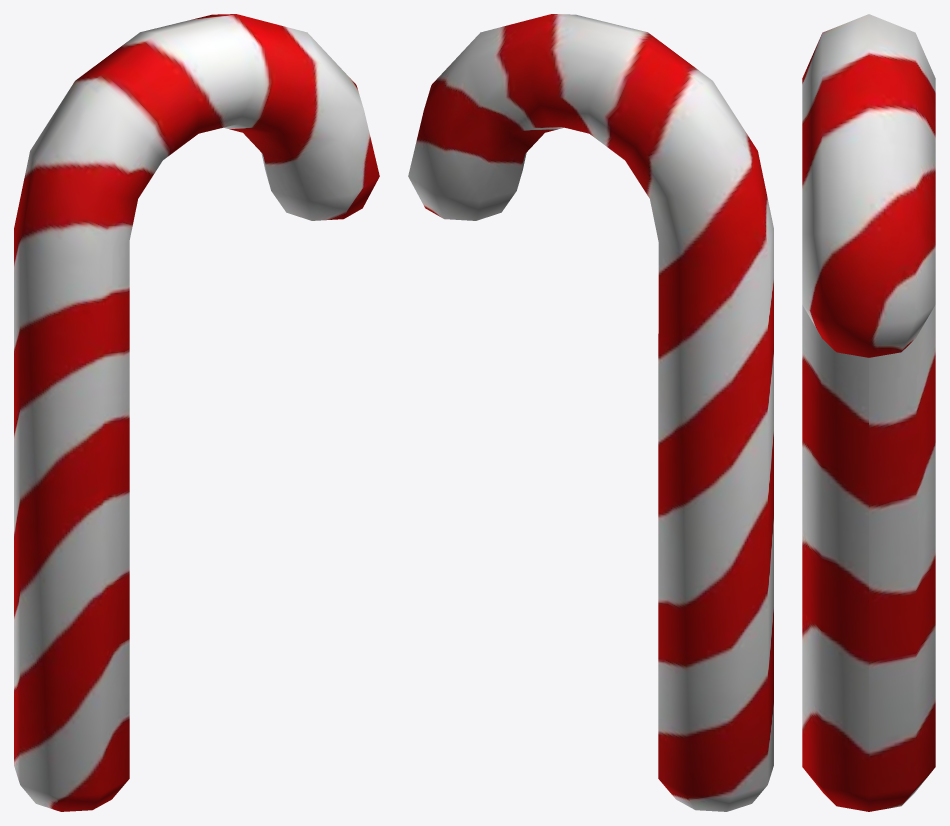
The model's file is candycane.worldmodel.glb.
The picture shows the model from 3 angles, left to right: view 1: azimuth 30°, elevation 25°; view 2: azimuth 150°, elevation 25°; view 3: azimuth 270°, elevation 25°; orthographic projection. The views are drawn at different scales.
Parts seen in each view (by area): view 1: Candy-Cane; view 2: Candy-Cane; view 3: Candy-Cane.
Boxes of the visible parts, box(x1,y1,x2,y2) form: Candy-Cane: box(14, 14, 379, 811); Candy-Cane: box(408, 14, 773, 811); Candy-Cane: box(802, 14, 935, 811).
Bounding box in the file's own units: 0.2426 × 0.4932 × 0.071.
1 material, 1 textured.
